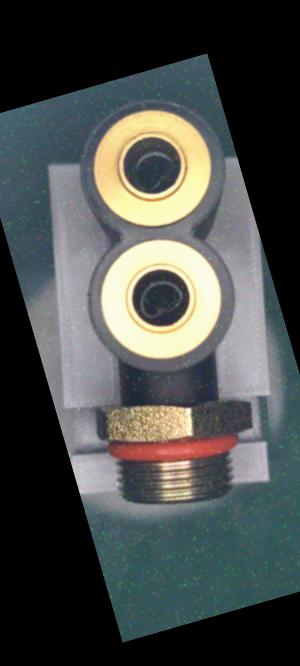off-centered: (128, 269, 194, 328), (124, 138, 184, 197)
white mark: (159, 391, 174, 409)
